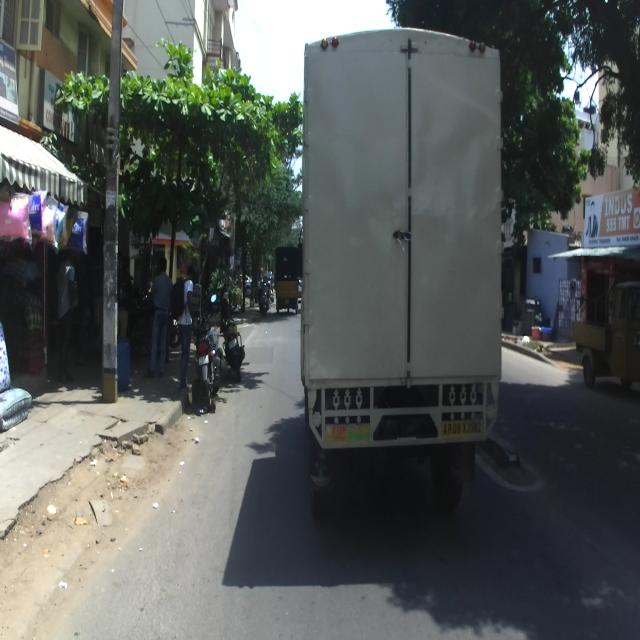electric pole ahead at: (96, 0, 136, 405)
motorcycle ahead at: (192, 301, 222, 408)
truck ahead at: (306, 25, 502, 512)
